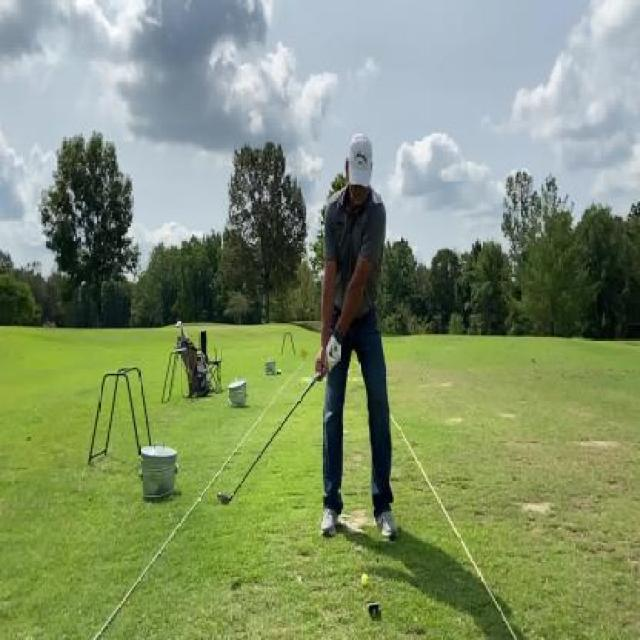club head: (217, 489, 235, 506)
